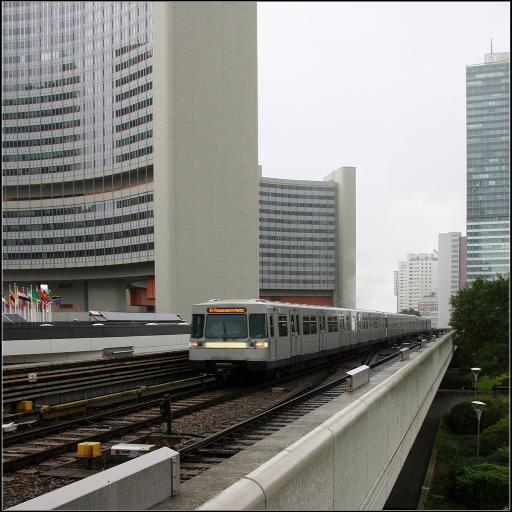Silberpfeil: (189, 295, 435, 367)
